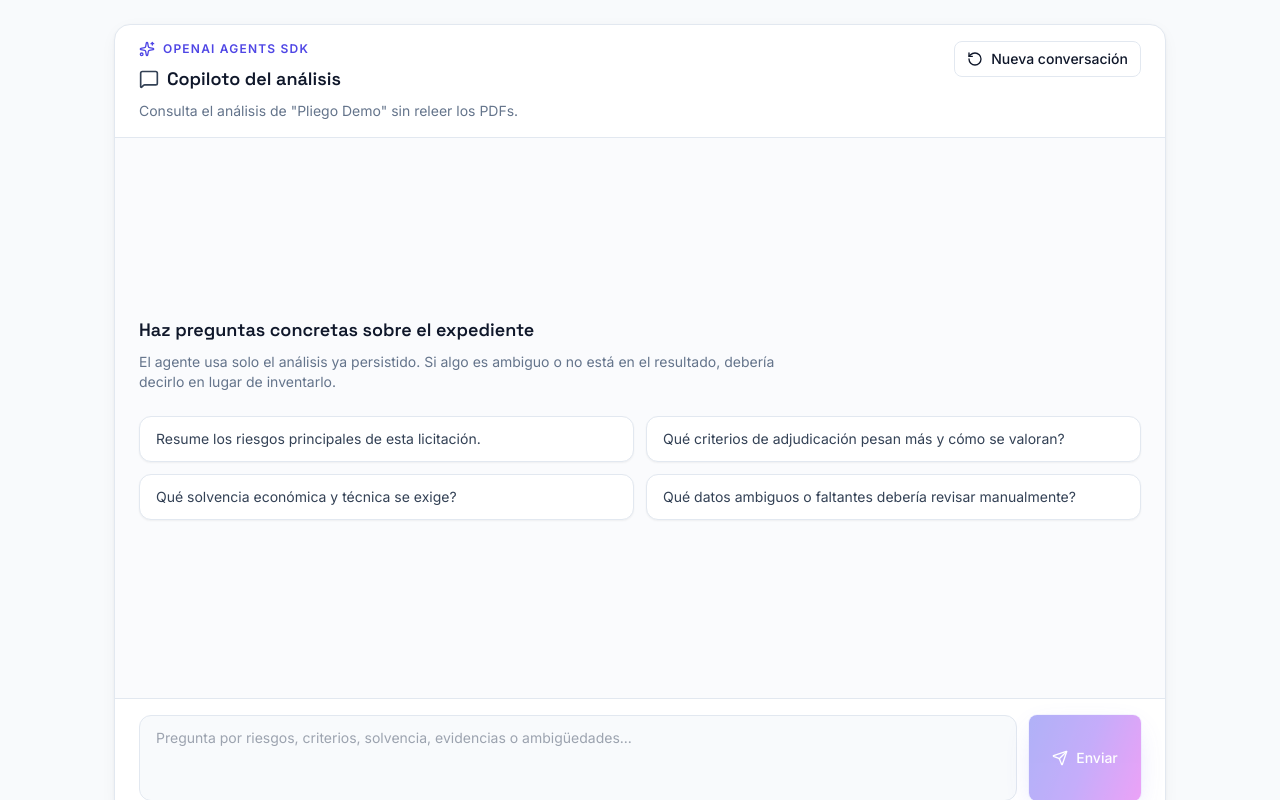
Test case: AnalysisChatPanel › sends a message and renders the assistant response
Replace the text in the text box with placeholder "Pregunta por riesgos" with "Qué riesgo ves aquí?" at point(578, 758), box [139,715,1017,799]
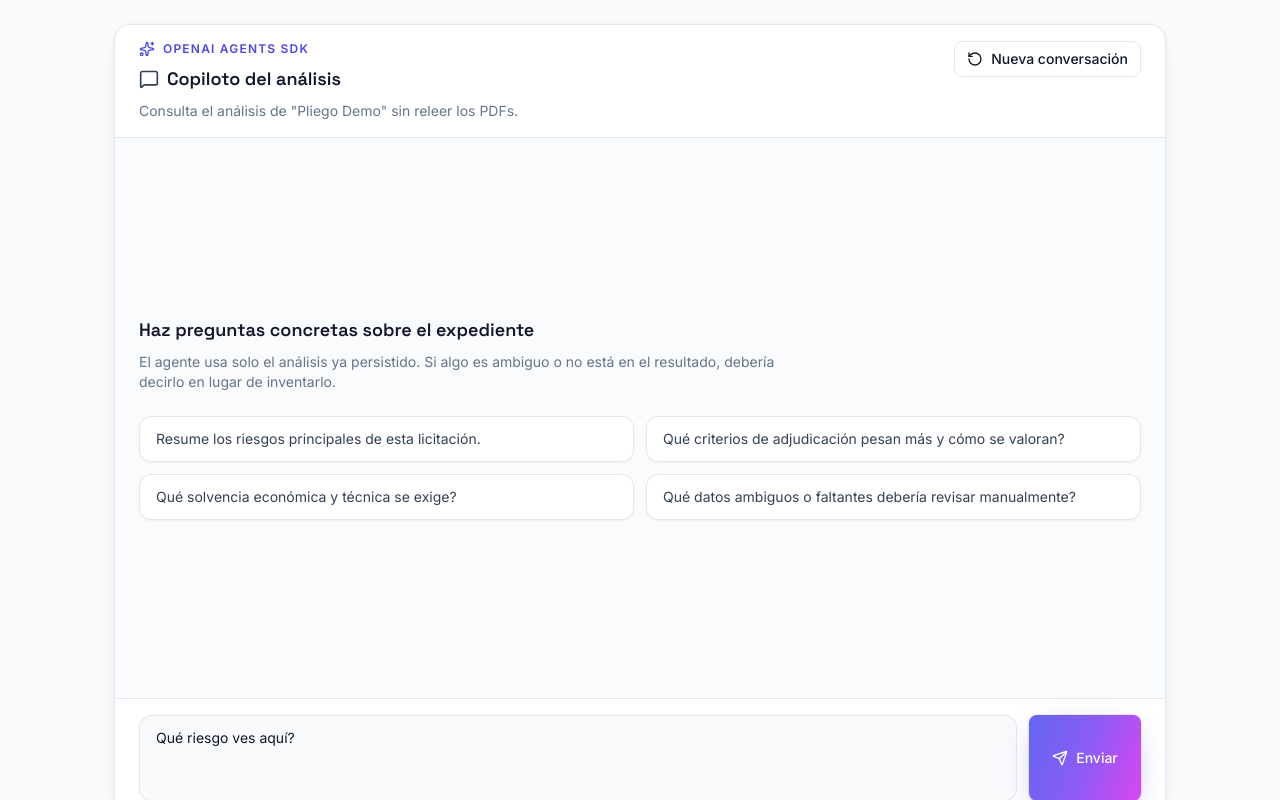
Click the button "Enviar" at point(1085, 758), box [1029,715,1141,799]
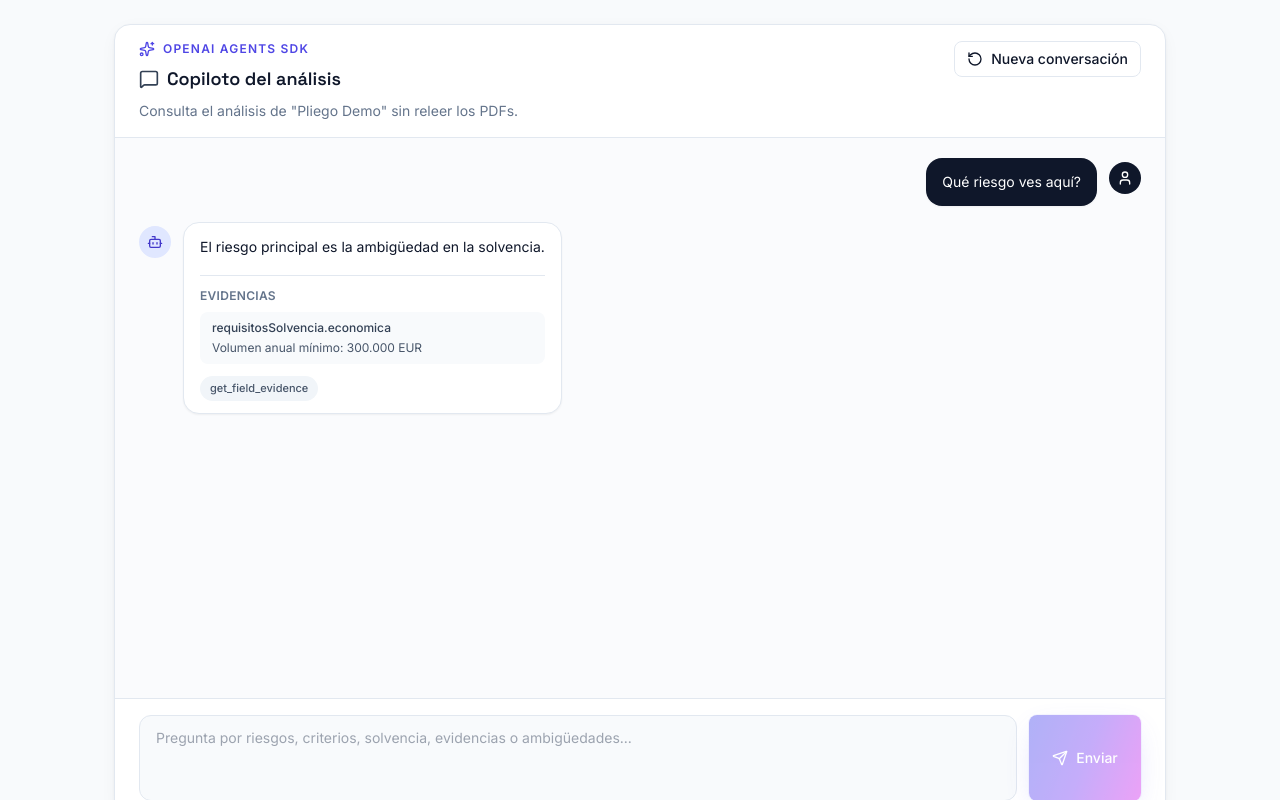
Now the text "El riesgo principal es la ambigüedad en la solvencia." is shown, box [200,235,545,259]
Now the text "Volumen anual mínimo: 300.000 EUR" is shown, box [212,340,422,355]
Now the text "get_field_evidence" is shown, box [200,376,318,400]
